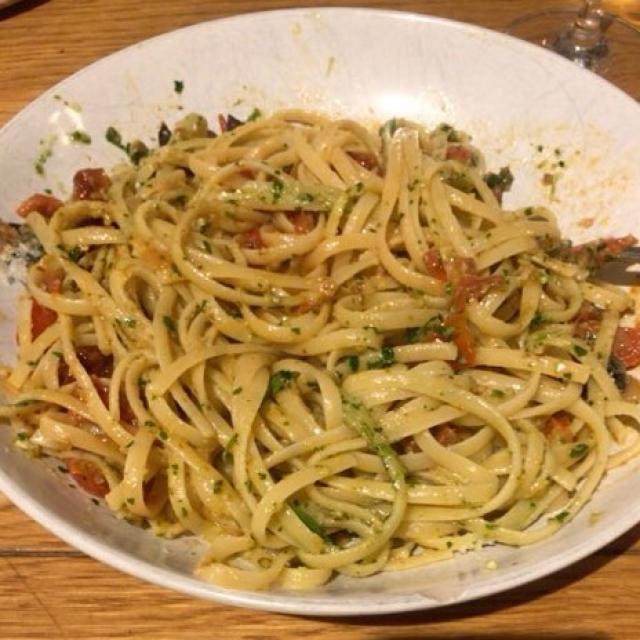pasta: (21, 108, 630, 576)
